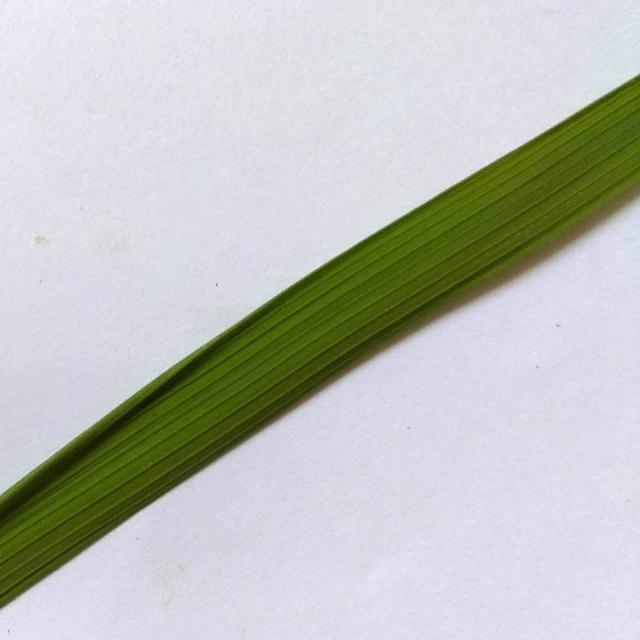Rice_Healthy: (0, 76, 640, 605)
